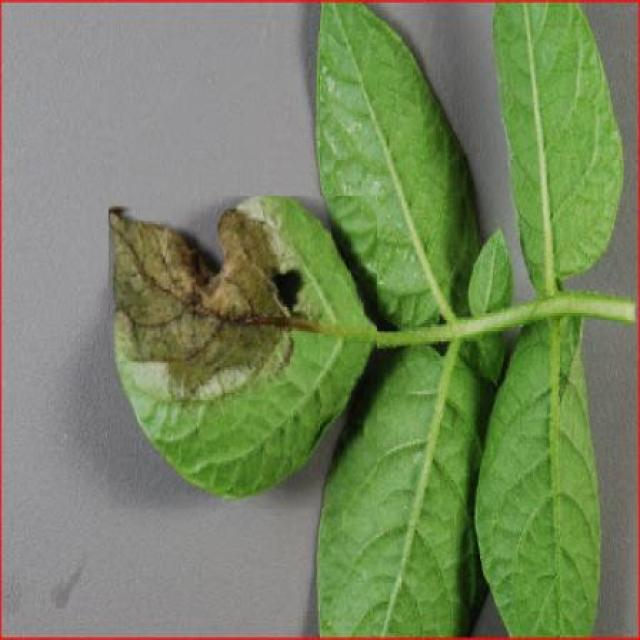Late Blight: (109, 196, 377, 508)
